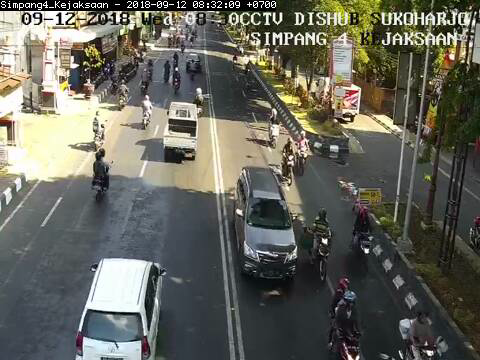motor: (328, 277, 367, 360), (399, 303, 447, 360), (301, 207, 332, 282), (349, 202, 378, 271), (281, 138, 295, 185), (296, 128, 310, 174), (267, 107, 282, 149)
